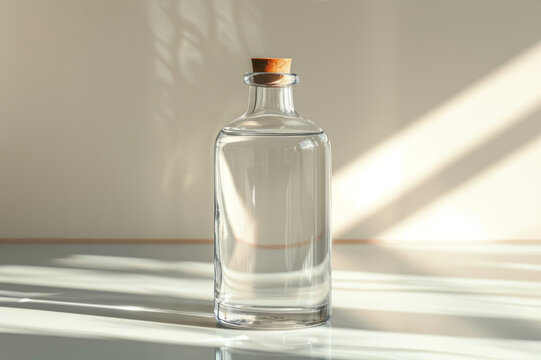glass_bottle: (204, 50, 343, 332)
